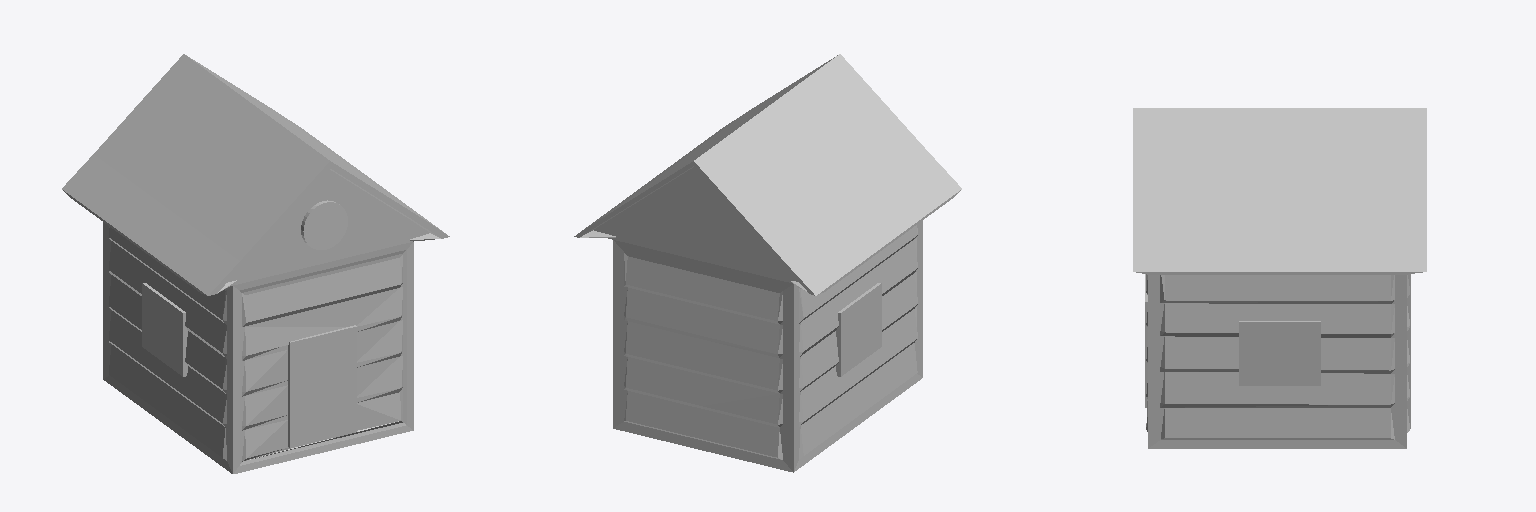
Rendered from House.obj.
The picture shows the model from 3 angles: view 1: azimuth 30°, elevation 25°; view 2: azimuth 150°, elevation 25°; view 3: azimuth 270°, elevation 25°; orthographic projection.
Parts seen in each view (by area): view 1: Cube; view 2: Cube; view 3: Cube.
Part boxes in pixels (x1,y1,x2,y2): Cube: (62, 54, 449, 473); Cube: (574, 54, 961, 472); Cube: (1133, 108, 1426, 448).
Bounding box in the file's own units: 14.09 × 16.49 × 14.75.